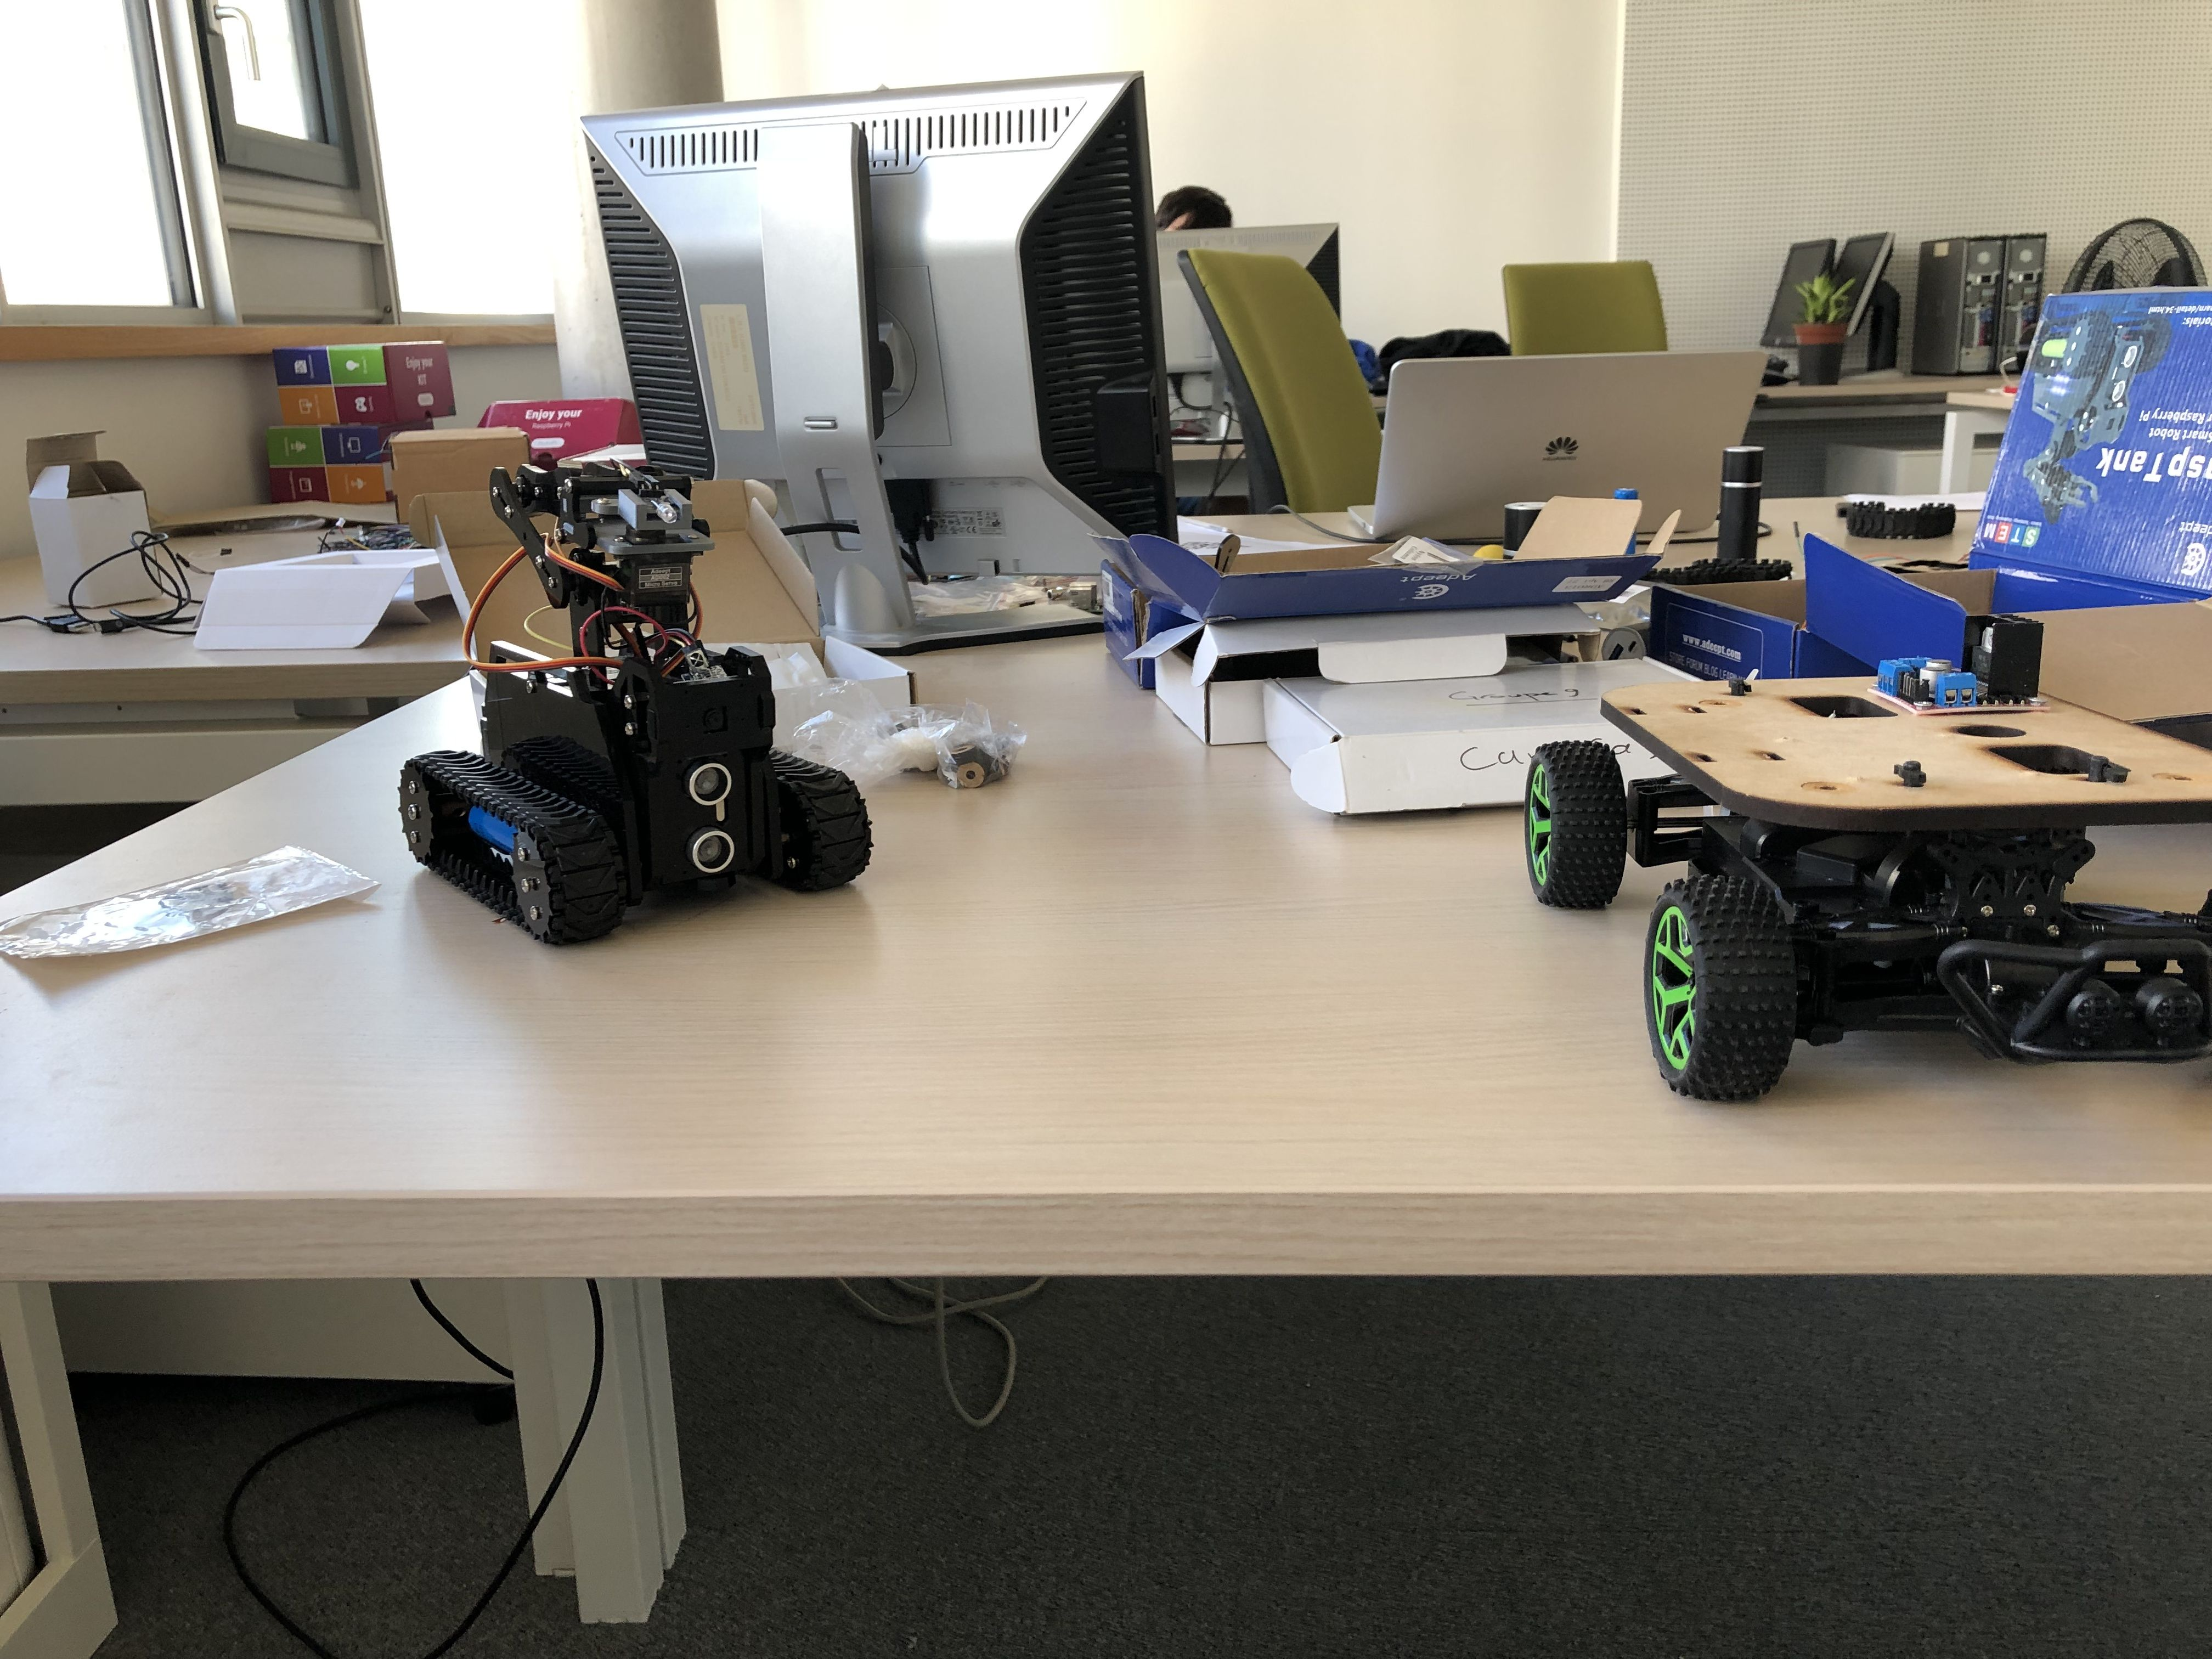rasptank: (387, 453, 881, 951)
